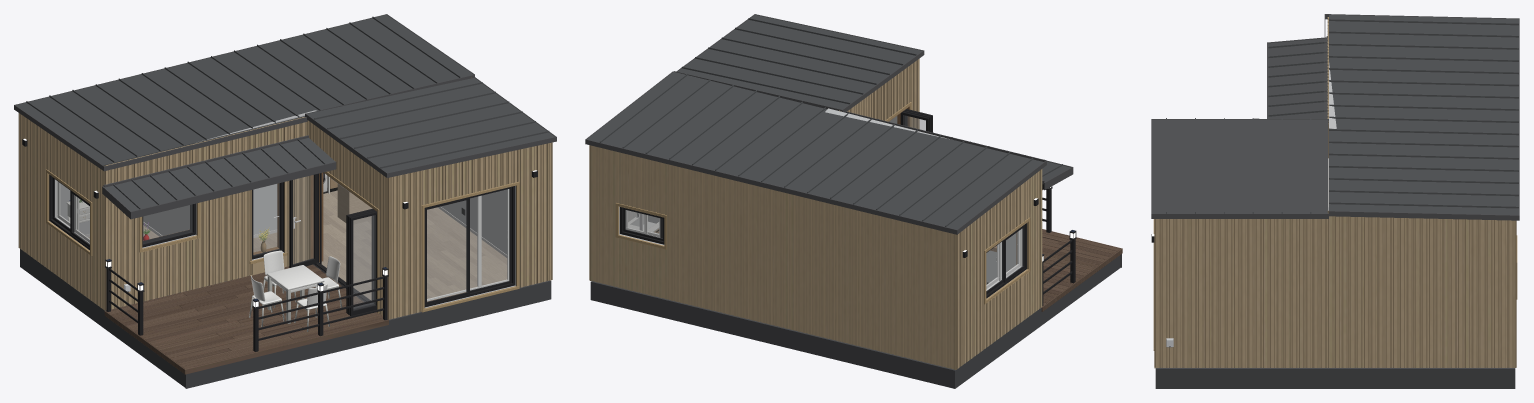
The model's file is seum-shelter-10.glb.
The picture shows the model from 3 angles, left to right: view 1: azimuth 30°, elevation 25°; view 2: azimuth 150°, elevation 25°; view 3: azimuth 270°, elevation 25°; orthographic projection. The views are drawn at different scales.
Visible parts, largest first — view 1: 지붕_Roof_MetalGray, Ext_WoodLouver, Ext_LouverGroove, Glass_Bronze, Deck_DarkWalnut, Frame_Black, Ext_BaseMetal, Int_Laminate, Roof_MetalGray, Int_WallWhite, 지붕_Cope_DarkGray, Ext_TrimBeige (+6 smaller); view 2: Ext_WoodLouver, 지붕_Roof_MetalGray, Ext_LouverGroove, Ext_BaseMetal, 지붕_Cope_DarkGray, Deck_DarkWalnut, Frame_Black, Glass_Bronze, Ext_TrimBeige, Int_WallWhite, PVC_White; view 3: 지붕_Roof_MetalGray, Ext_WoodLouver, Ext_LouverGroove, Ext_BaseMetal, Roof_MetalGray, 지붕_Cope_DarkGray, Cope_DarkGray, Ext_TrimBeige.
Boxes of the visible parts, x1,y1,x2,y2 form: 지붕_Roof_MetalGray: [15, 14, 554, 172]; Ext_WoodLouver: [19, 113, 552, 319]; Ext_LouverGroove: [18, 77, 552, 319]; Glass_Bronze: [54, 175, 509, 309]; Deck_DarkWalnut: [104, 264, 388, 374]; Frame_Black: [22, 139, 537, 351]; Ext_BaseMetal: [20, 249, 551, 388]; Int_Laminate: [88, 190, 507, 300]; Roof_MetalGray: [105, 138, 335, 211]; Int_WallWhite: [60, 110, 515, 307]; 지붕_Cope_DarkGray: [14, 14, 556, 177]; Ext_TrimBeige: [46, 169, 519, 313]; Ext_WoodLouver: [589, 58, 1042, 369]; 지붕_Roof_MetalGray: [587, 14, 1043, 229]; Ext_LouverGroove: [589, 60, 1040, 369]; Ext_BaseMetal: [590, 254, 1121, 388]; 지붕_Cope_DarkGray: [585, 14, 1046, 234]; Deck_DarkWalnut: [1041, 229, 1122, 311]; Frame_Black: [620, 109, 1076, 305]; Glass_Bronze: [626, 115, 1023, 290]; Ext_TrimBeige: [615, 102, 1030, 304]; Int_WallWhite: [619, 108, 1016, 284]; PVC_White: [625, 210, 1022, 290]; 지붕_Roof_MetalGray: [1152, 14, 1518, 215]; Ext_WoodLouver: [1156, 17, 1515, 367]; Ext_LouverGroove: [1154, 17, 1516, 368]; Ext_BaseMetal: [1155, 367, 1515, 388]; Roof_MetalGray: [1268, 38, 1326, 118]; 지붕_Cope_DarkGray: [1151, 14, 1519, 220]; Cope_DarkGray: [1267, 36, 1327, 118]; Ext_TrimBeige: [1153, 219, 1517, 350].
Bounding box in the file's own units: 8.08 × 3.5 × 6.38.
111 materials, 16 textured.
